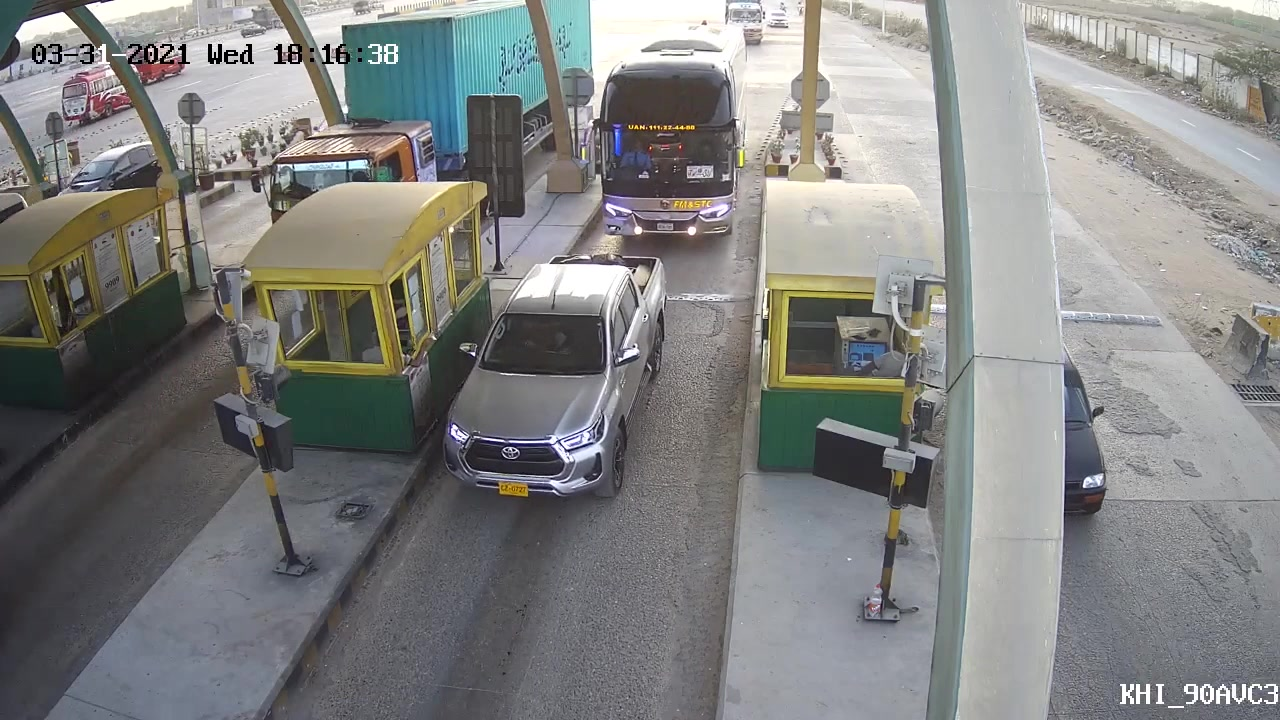F1: (434, 244, 675, 504)
F4: (574, 30, 752, 242)
